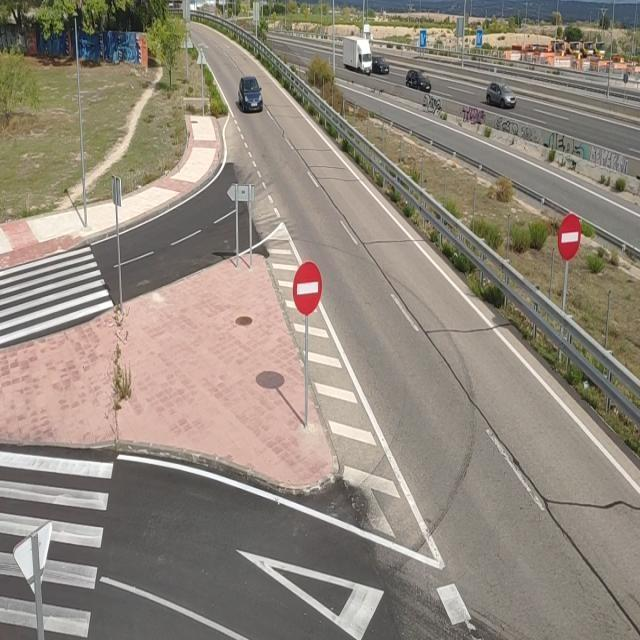Car: (238, 77, 264, 113), (486, 81, 516, 107), (406, 70, 432, 92), (372, 55, 391, 75)
Truck: (342, 35, 372, 75)
